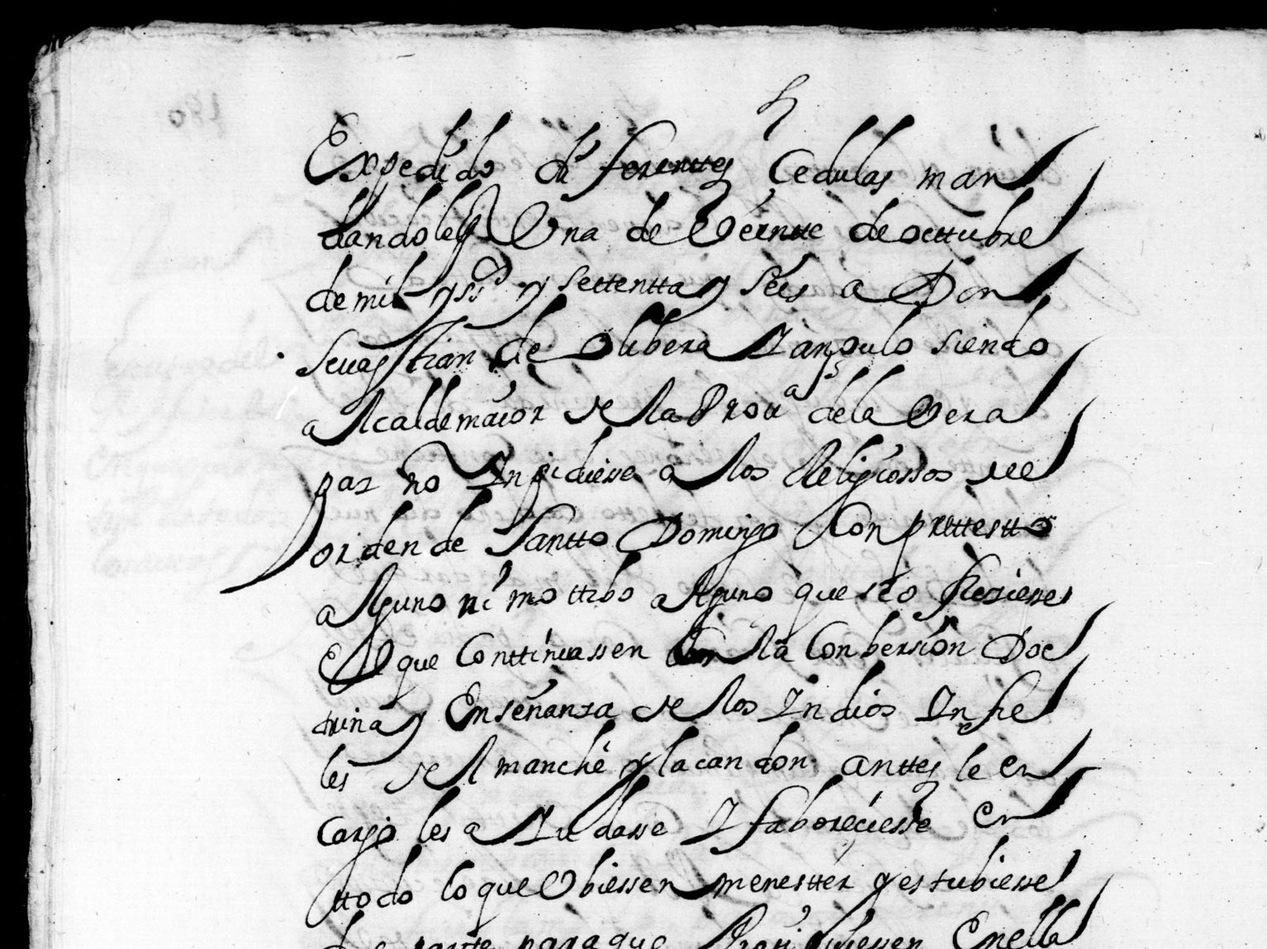lacandon: (657, 720, 808, 777)
